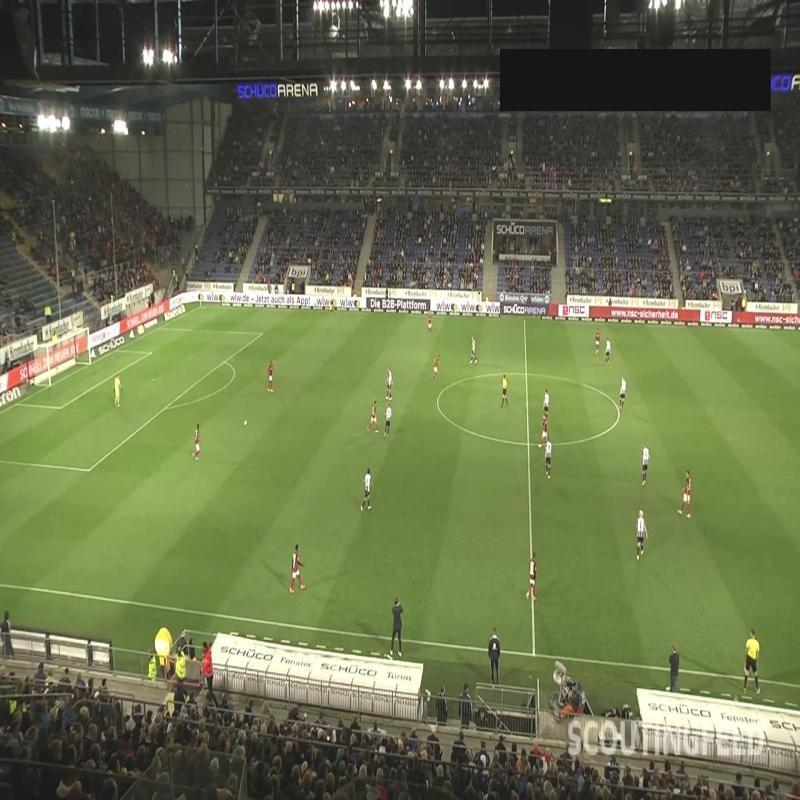1: (194, 300, 208, 314)
10: (218, 355, 232, 368)
11: (158, 401, 172, 415)
12: (82, 464, 96, 478)
13: (517, 312, 531, 326)
14: (519, 366, 533, 380)
15: (522, 438, 536, 452)
16: (524, 639, 544, 669), (638, 746, 652, 760)
2: (152, 320, 166, 334)
3: (110, 342, 124, 356)
4: (10, 396, 24, 410)
7: (142, 346, 157, 360)
8: (53, 400, 68, 414)
9: (254, 326, 268, 340)
c: (611, 406, 625, 420), (432, 394, 443, 408)
